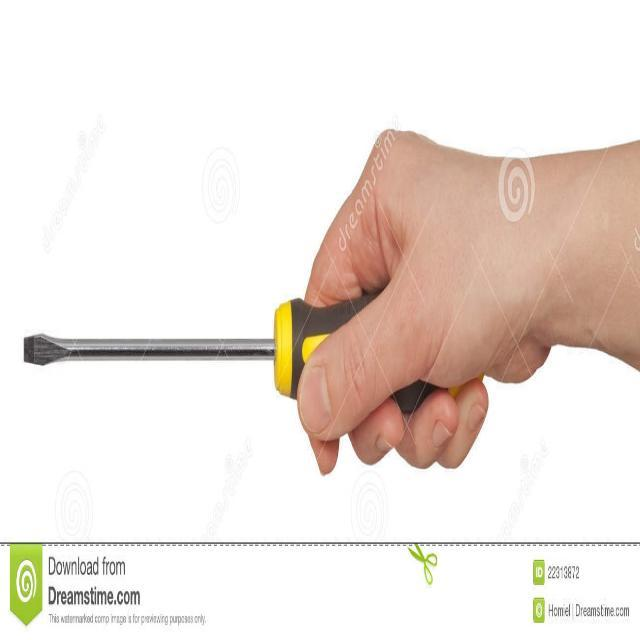screwdriver: (14, 293, 453, 410)
